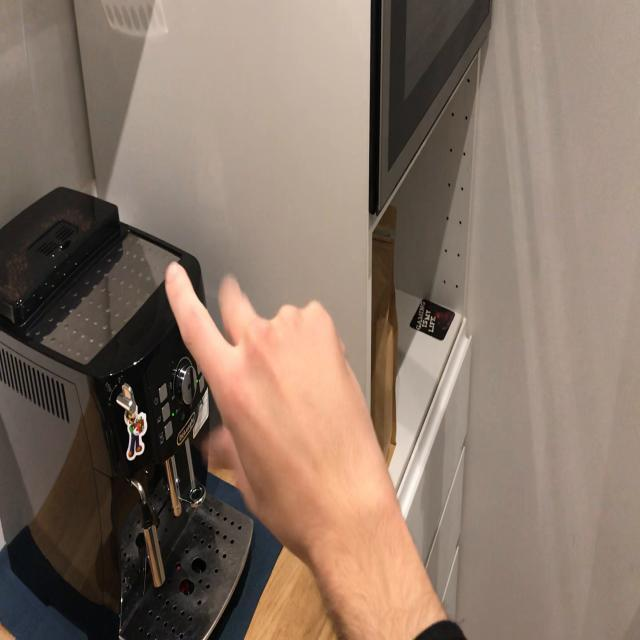no-gloves: (162, 260, 379, 546)
